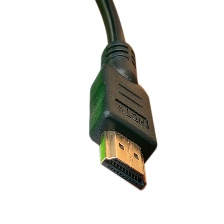hdmi_male: (55, 48, 189, 191)
